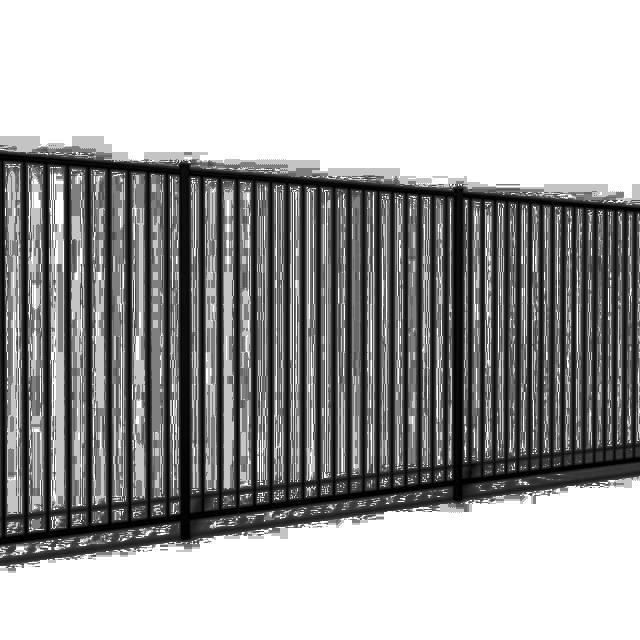fences: (0, 180, 627, 521)
